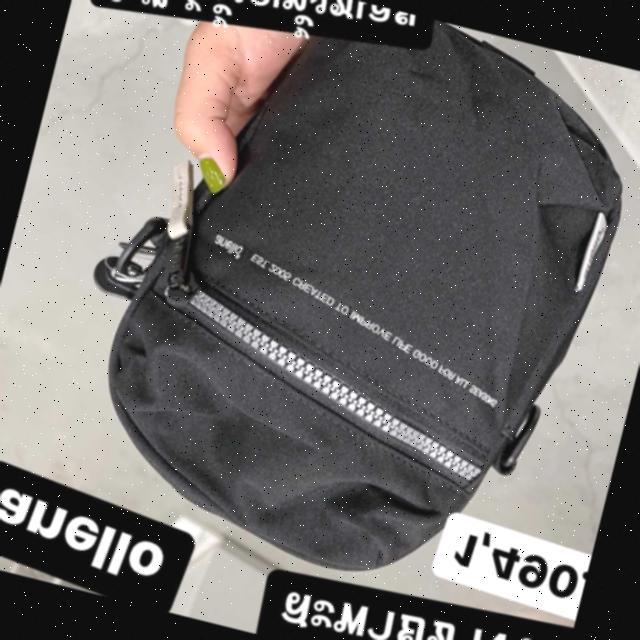Handbag: (71, 0, 640, 638)
